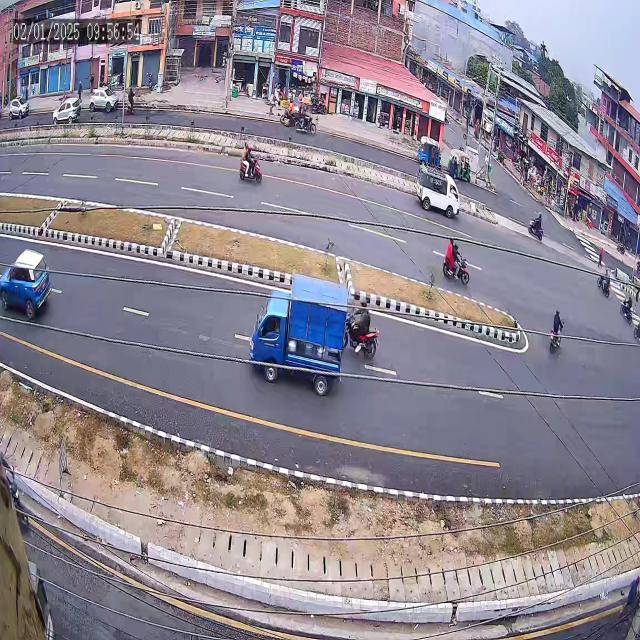car: (0, 234, 61, 327), (49, 92, 85, 130)
motorcycle: (343, 297, 388, 369), (233, 135, 267, 200), (442, 231, 472, 285), (545, 303, 570, 365), (524, 203, 549, 247), (595, 262, 616, 302)
van: (411, 157, 464, 225)
